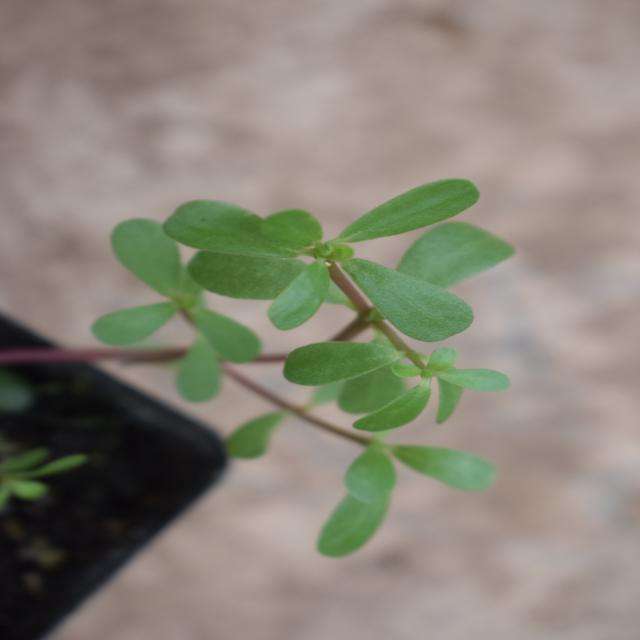purslane: (170, 80, 530, 530)
